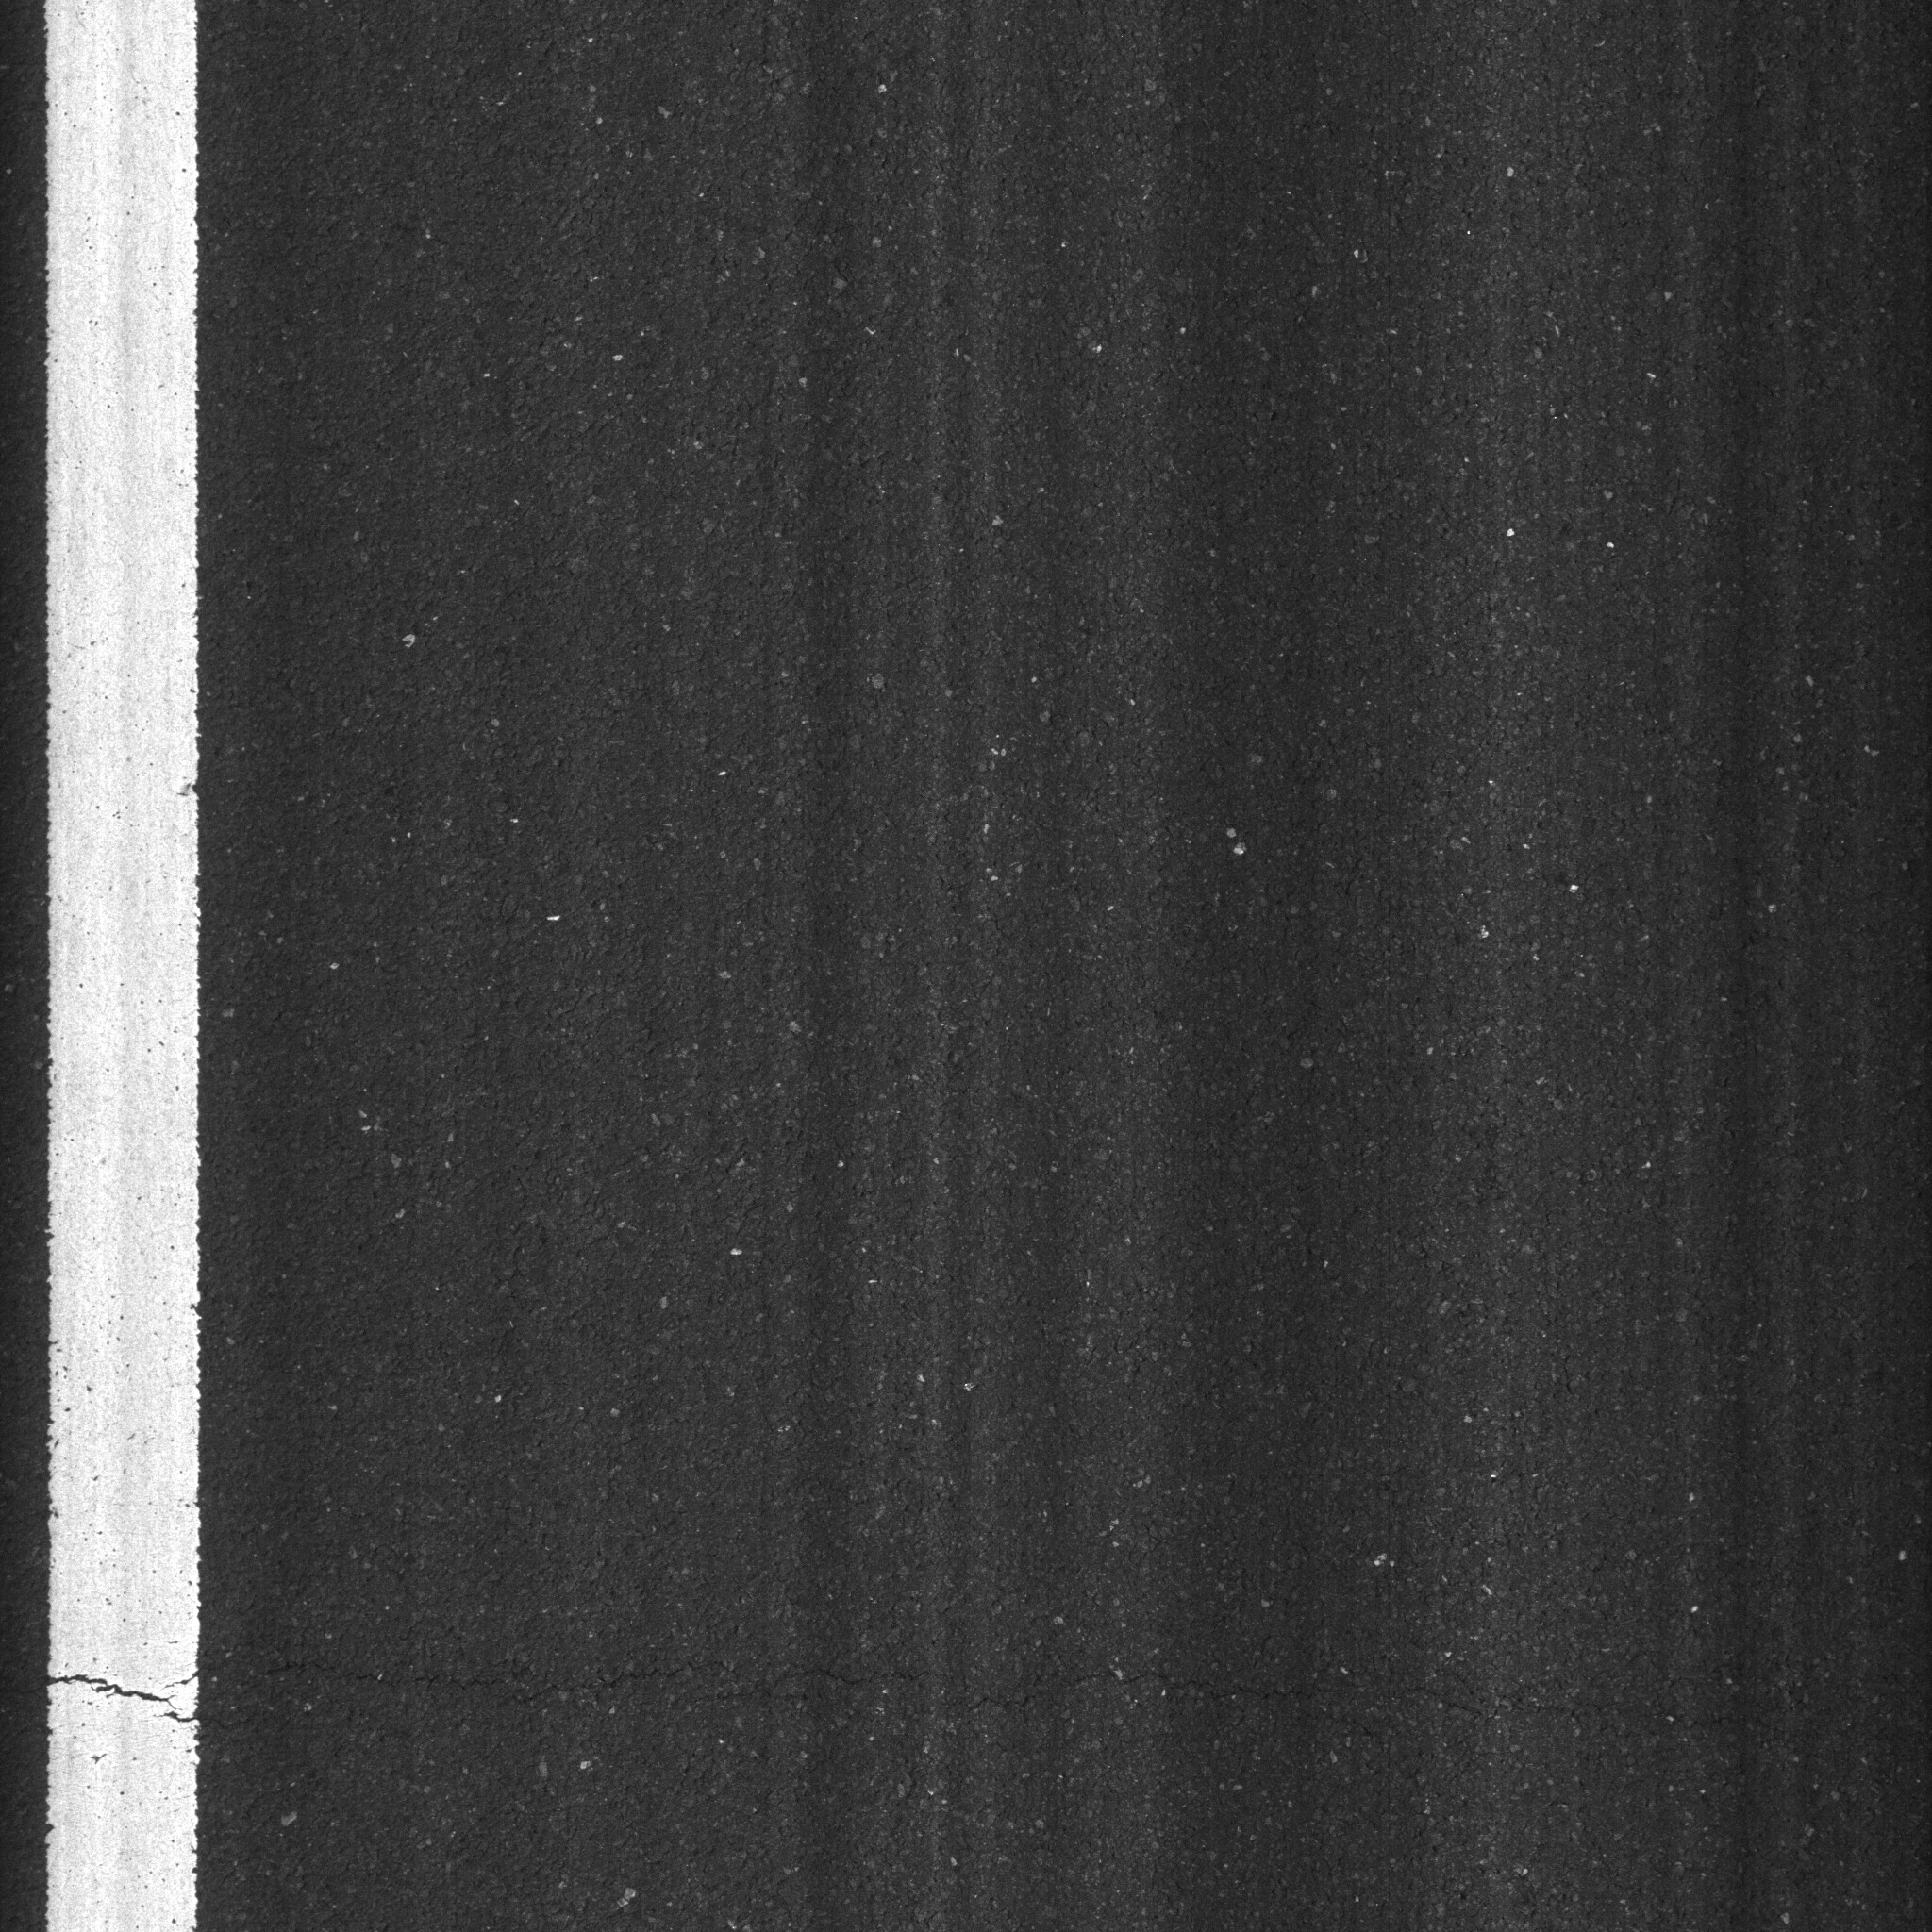transeverse: (30, 1635, 1762, 1787)
